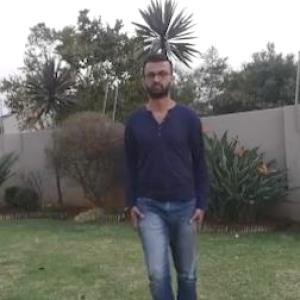follow: (129, 52, 207, 299)
